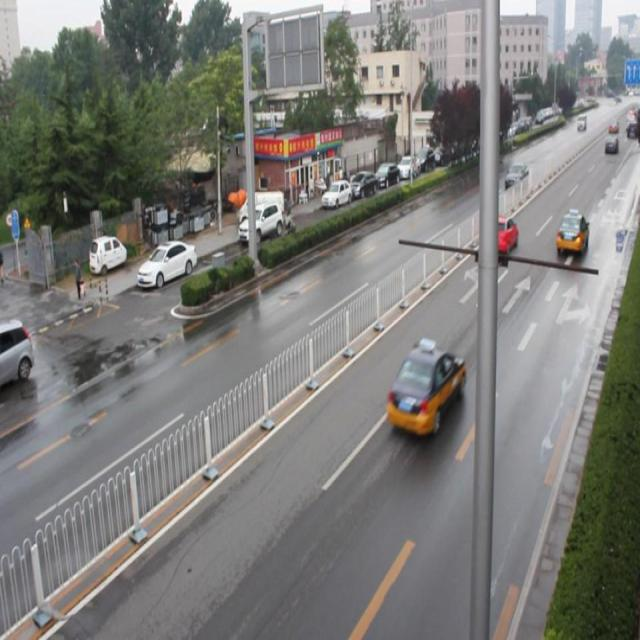car: (385, 334, 465, 440), (553, 208, 587, 258), (482, 215, 518, 257), (503, 160, 528, 188)
